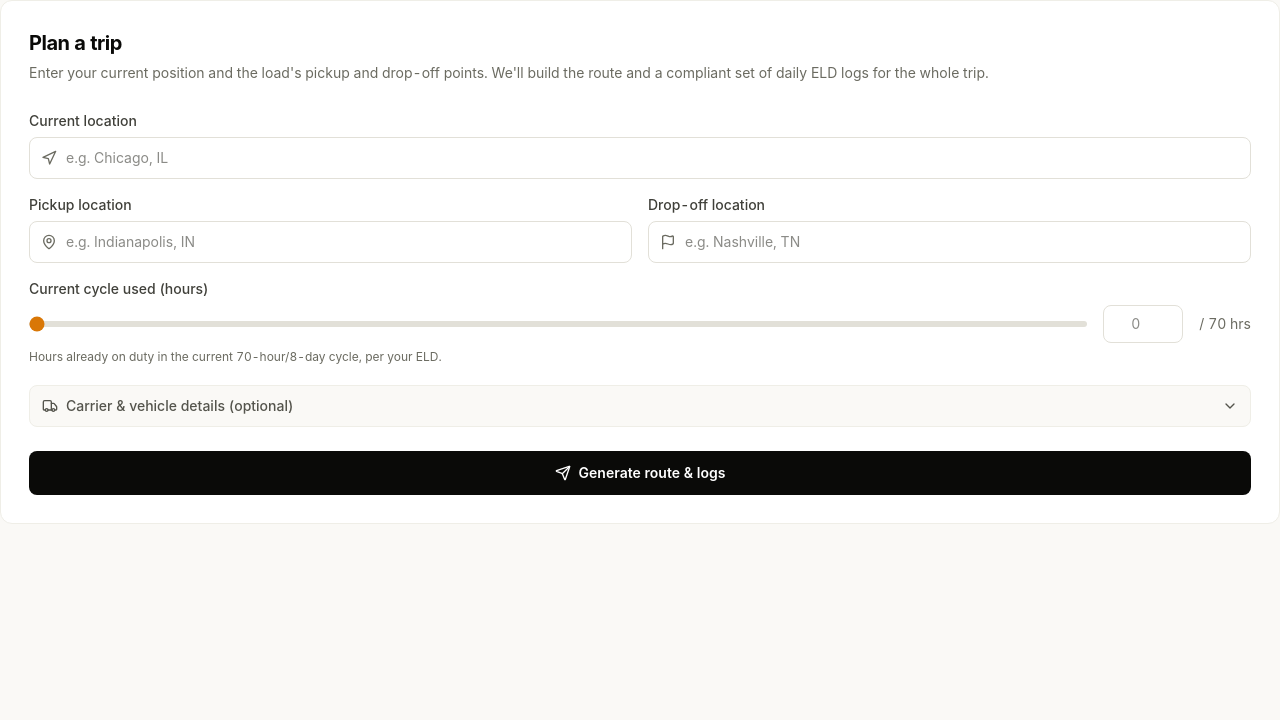
TripForm › reveals the optional fields when the details toggle is clicked
What coordinates should you click on to do the following:
click the button "Carrier & vehicle details (optional)"
I would click on:
 (180, 406)
Its box is [29, 385, 1251, 427].
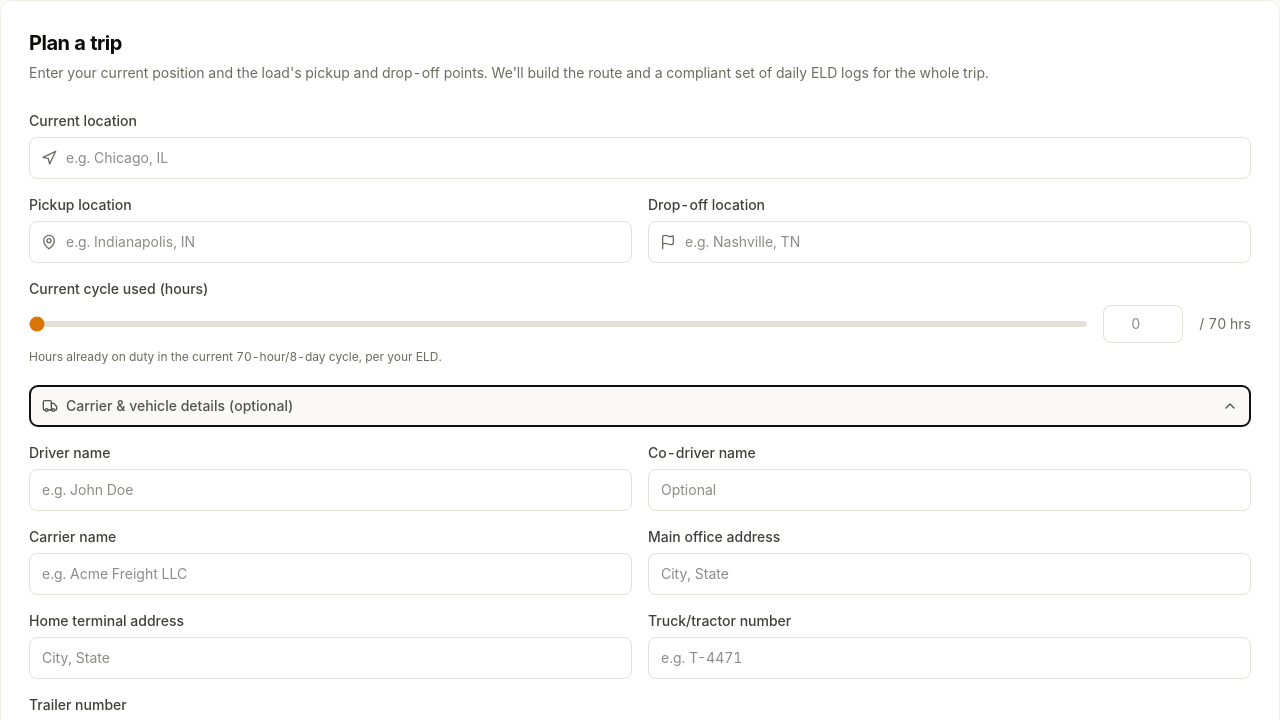
Expected: the field labelled "Driver name" is shown, [29, 469, 632, 511]
Expected: the field labelled "Carrier name" is shown, [29, 553, 632, 595]
